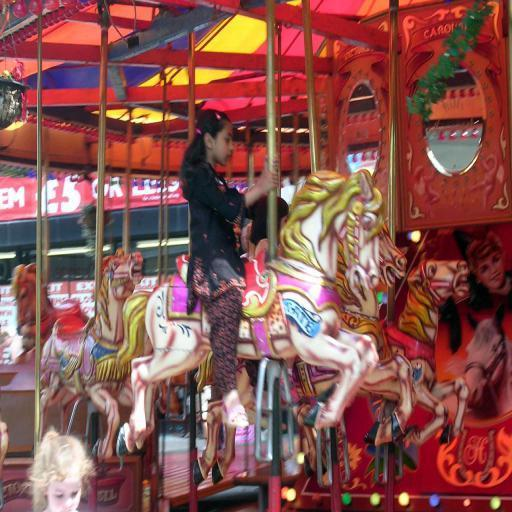horse: (114, 166, 380, 460), (192, 218, 418, 488), (288, 258, 472, 481), (36, 246, 146, 466), (10, 262, 92, 361), (154, 372, 196, 422)
